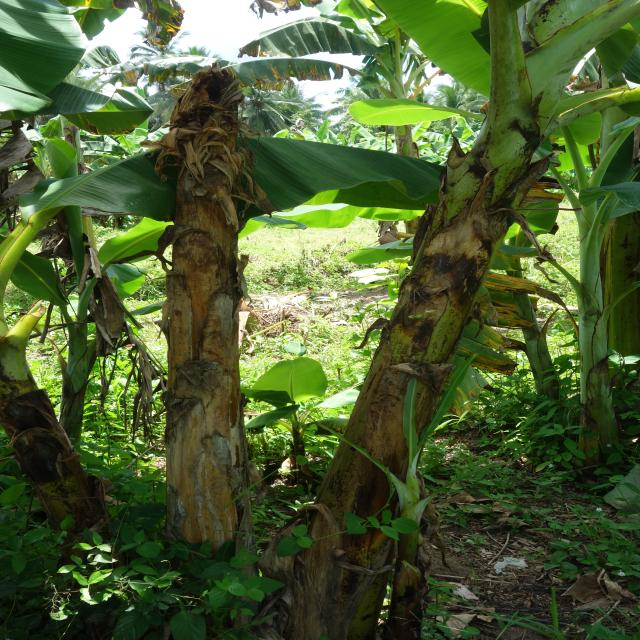Banana-plant: (270, 79, 556, 640), (160, 120, 248, 557)
